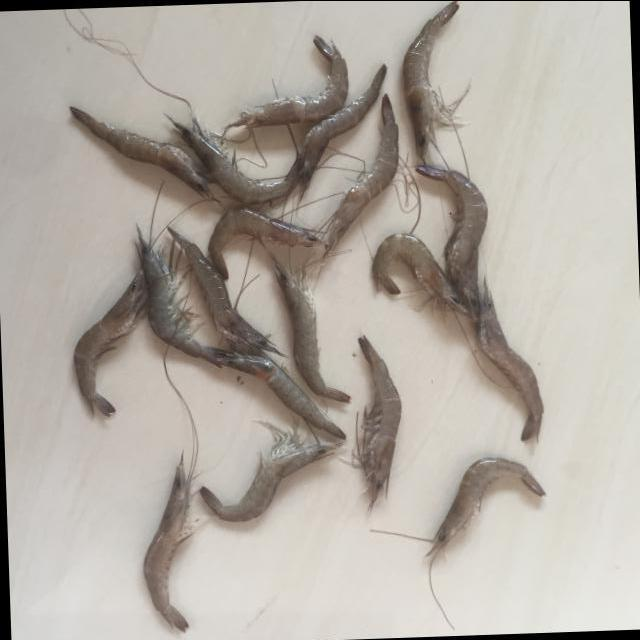shrimp: (167, 227, 285, 356), (199, 420, 344, 522), (131, 221, 231, 368), (69, 106, 213, 198), (425, 458, 546, 557), (167, 115, 300, 204), (225, 34, 348, 128), (326, 93, 398, 253), (273, 257, 350, 403), (213, 355, 346, 439), (416, 165, 488, 320), (72, 271, 147, 417), (300, 63, 386, 189), (475, 285, 544, 440), (403, 0, 459, 159), (143, 455, 191, 632), (208, 208, 325, 279), (372, 233, 469, 315), (358, 336, 401, 509)
